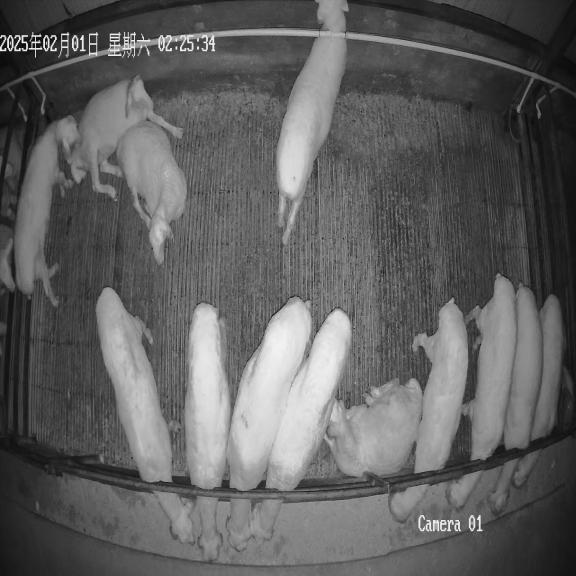eating: (96, 287, 194, 543), (250, 308, 352, 540), (226, 297, 312, 551), (388, 298, 468, 523), (445, 273, 517, 509), (486, 283, 543, 515), (184, 302, 231, 561), (512, 294, 565, 488)
lying: (0, 116, 78, 306), (71, 75, 183, 200), (115, 119, 187, 264), (325, 379, 423, 477)
stand: (276, 0, 349, 245)
